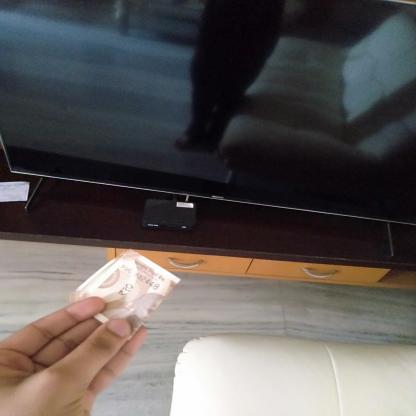New10Front: (82, 260, 176, 334)
